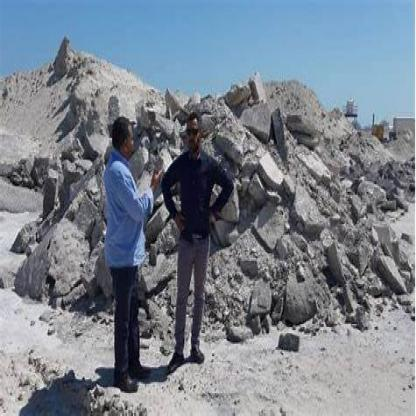person: (163, 109, 234, 371), (105, 103, 160, 388)
